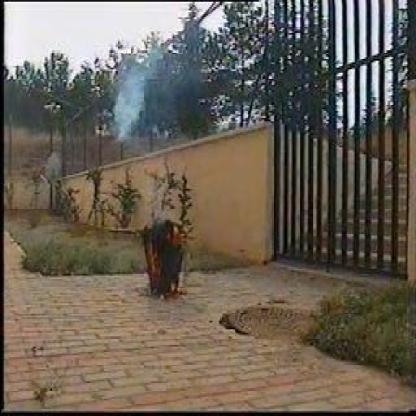-: (116, 53, 150, 139)
foggia-v2-map80-epoch100 - v1 4323: (145, 242, 159, 278)
